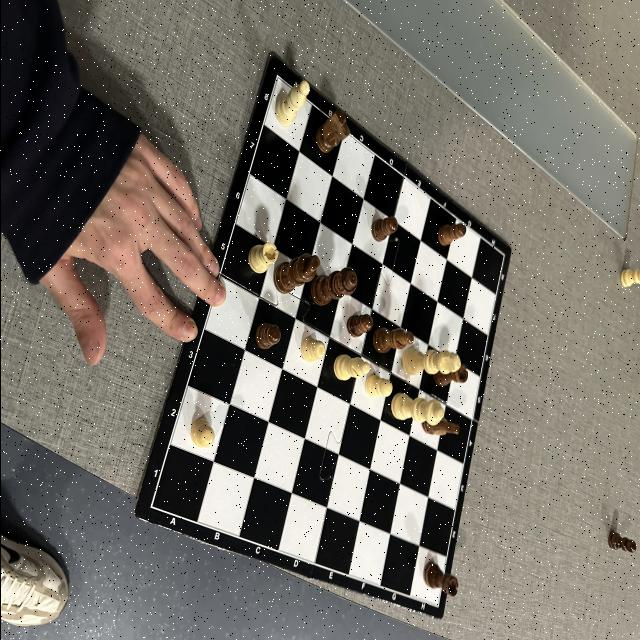Black-Bishop: (371, 326, 413, 354)
Black-King: (272, 253, 320, 295)
Black-Knight: (314, 108, 350, 154), (421, 416, 458, 436)
Black-Pawn: (370, 216, 397, 243), (254, 322, 280, 350), (436, 222, 466, 246), (346, 314, 372, 338), (608, 531, 636, 553)
Black-Queen: (310, 266, 358, 306)
Black-Rook: (422, 561, 458, 597), (432, 363, 468, 387)
White-Bishop: (274, 80, 310, 128), (332, 354, 368, 380)
White-King: (400, 348, 460, 376)
White-Pawn: (364, 373, 392, 398), (190, 418, 213, 448), (299, 336, 325, 362), (619, 268, 640, 288)
White-Queen: (389, 392, 444, 427)
White-Rook: (246, 242, 278, 274)
